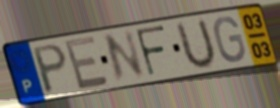E: (62, 34, 111, 93)
F: (133, 24, 168, 79)
G: (212, 15, 248, 64)
N: (102, 28, 148, 86)
P: (31, 42, 69, 97)
U: (175, 16, 218, 73)
